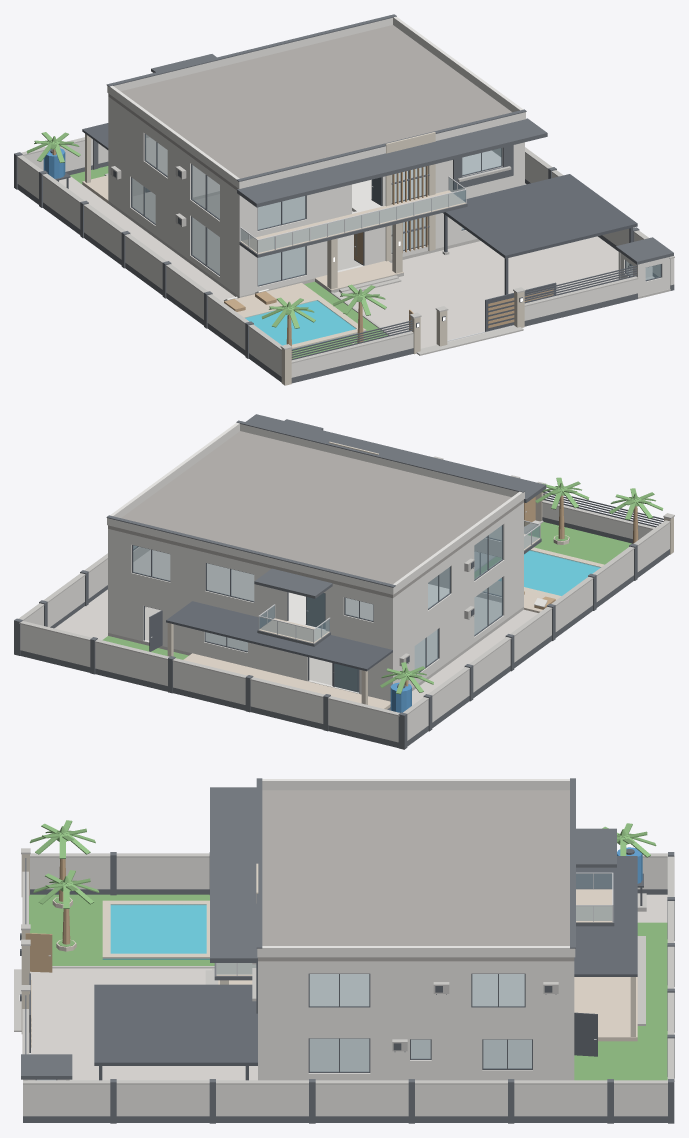
Rendered from SM_Duplex_Cocody_01.fbx.
3 views of the same model, one above another, from view 1: azimuth 30°, elevation 25°; view 2: azimuth 150°, elevation 25°; view 3: azimuth 270°, elevation 25° (orthographic). The views are drawn at different scales.
Parts seen in each view (by area): view 1: Duplex_Structure_Ext, Duplex_Details_Ext, Gate_Main; view 2: Duplex_Structure_Ext, Duplex_Details_Ext, Door_BackTerrace, Door_MasterBalcony, Door_BackService; view 3: Duplex_Structure_Ext, Duplex_Details_Ext, Door_BackService, Gate_Pedestrian.
Boxes of the visible parts, left/top/right/bottom form: Duplex_Structure_Ext: left=14, top=14, right=674, bottom=385; Duplex_Details_Ext: left=26, top=132, right=637, bottom=359; Gate_Main: left=485, top=282, right=556, bottom=331; Duplex_Structure_Ext: left=14, top=414, right=674, bottom=749; Duplex_Details_Ext: left=167, top=477, right=663, bottom=712; Door_BackTerrace: left=332, top=663, right=358, bottom=692; Door_MasterBalcony: left=305, top=593, right=325, bottom=628; Door_BackService: left=149, top=610, right=162, bottom=651; Duplex_Structure_Ext: left=14, top=778, right=674, bottom=1123; Duplex_Details_Ext: left=19, top=820, right=656, bottom=1080; Door_BackService: left=574, top=1012, right=597, bottom=1056; Gate_Pedestrian: left=25, top=933, right=52, bottom=972.
Size of the model in its own units: 3041 by 895 by 3656.
